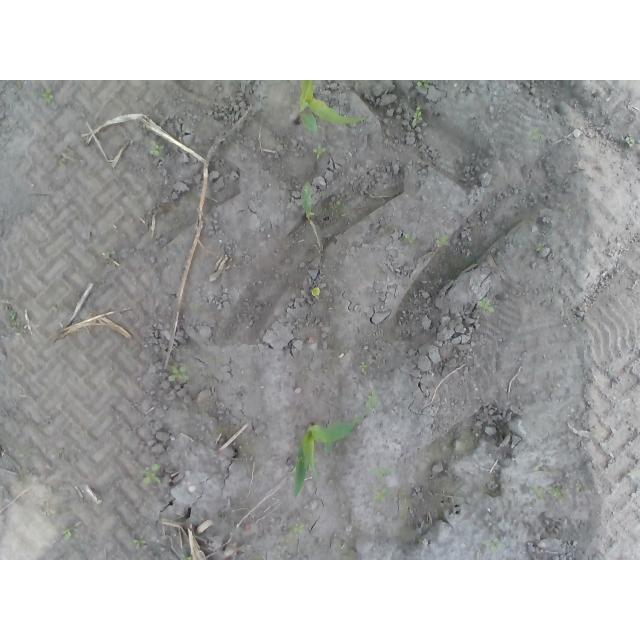Maize: (293, 416, 357, 496), (292, 80, 364, 133), (300, 184, 312, 222)
Weeds: (532, 485, 561, 503), (143, 462, 162, 486), (167, 365, 189, 383), (368, 466, 392, 478), (372, 485, 388, 503), (38, 87, 54, 105), (411, 104, 423, 128), (365, 391, 379, 410), (479, 300, 498, 314), (132, 535, 147, 549), (528, 128, 544, 141), (314, 144, 327, 160), (483, 540, 498, 553), (148, 144, 160, 157), (437, 234, 449, 246), (291, 526, 305, 536), (309, 287, 321, 298), (63, 528, 73, 540), (404, 233, 415, 243), (625, 135, 635, 145), (535, 243, 546, 252), (416, 80, 428, 88), (180, 554, 193, 560), (360, 362, 368, 370)
